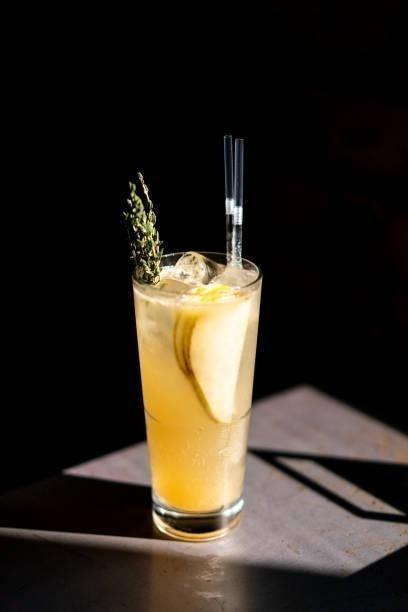glass-normal: (129, 249, 264, 541)
